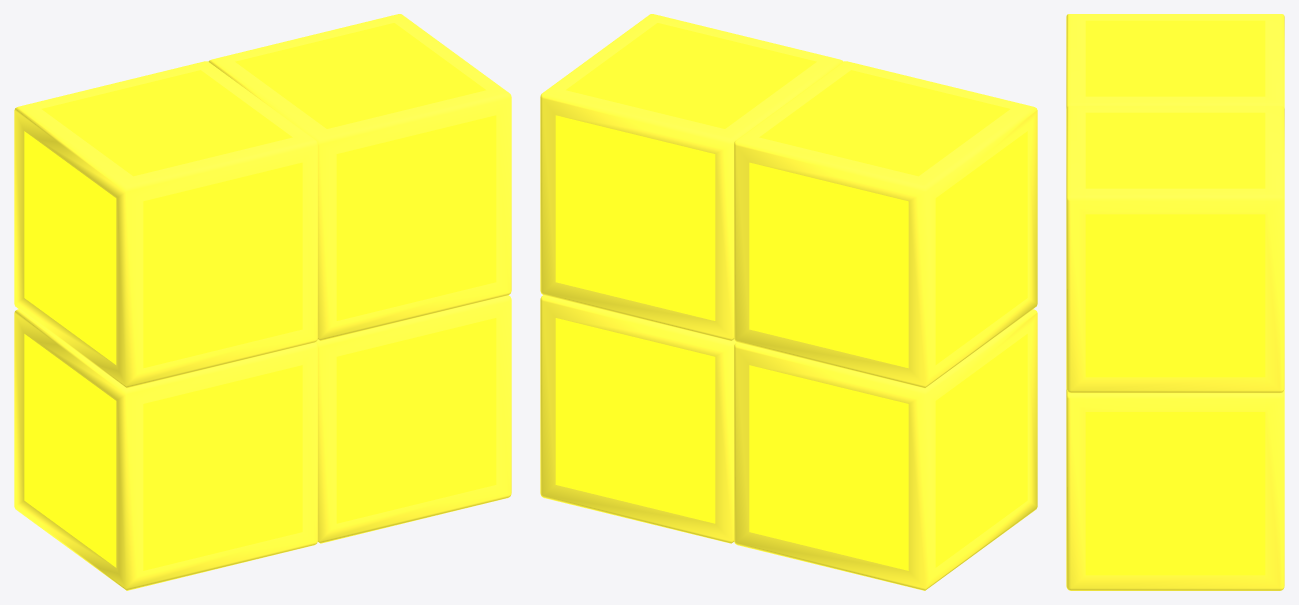
Rendered from O_block.glb.
The picture shows the model from 3 angles, left to right: view 1: azimuth 30°, elevation 25°; view 2: azimuth 150°, elevation 25°; view 3: azimuth 270°, elevation 25°; orthographic projection. The views are drawn at different scales.
Visible parts, largest first — view 1: FuwaSuisei_Tetris04_FuwaSuiseiItems_0; view 2: FuwaSuisei_Tetris04_FuwaSuiseiItems_0; view 3: FuwaSuisei_Tetris04_FuwaSuiseiItems_0.
Part boxes in pixels (<box>): FuwaSuisei_Tetris04_FuwaSuiseiItems_0: <box>14,14,511,590</box>; FuwaSuisei_Tetris04_FuwaSuiseiItems_0: <box>540,14,1037,590</box>; FuwaSuisei_Tetris04_FuwaSuiseiItems_0: <box>1066,14,1284,590</box>.
Bounding box in the file's own units: 0.8311 × 0.8311 × 0.4155.
1 material, 1 textured.
